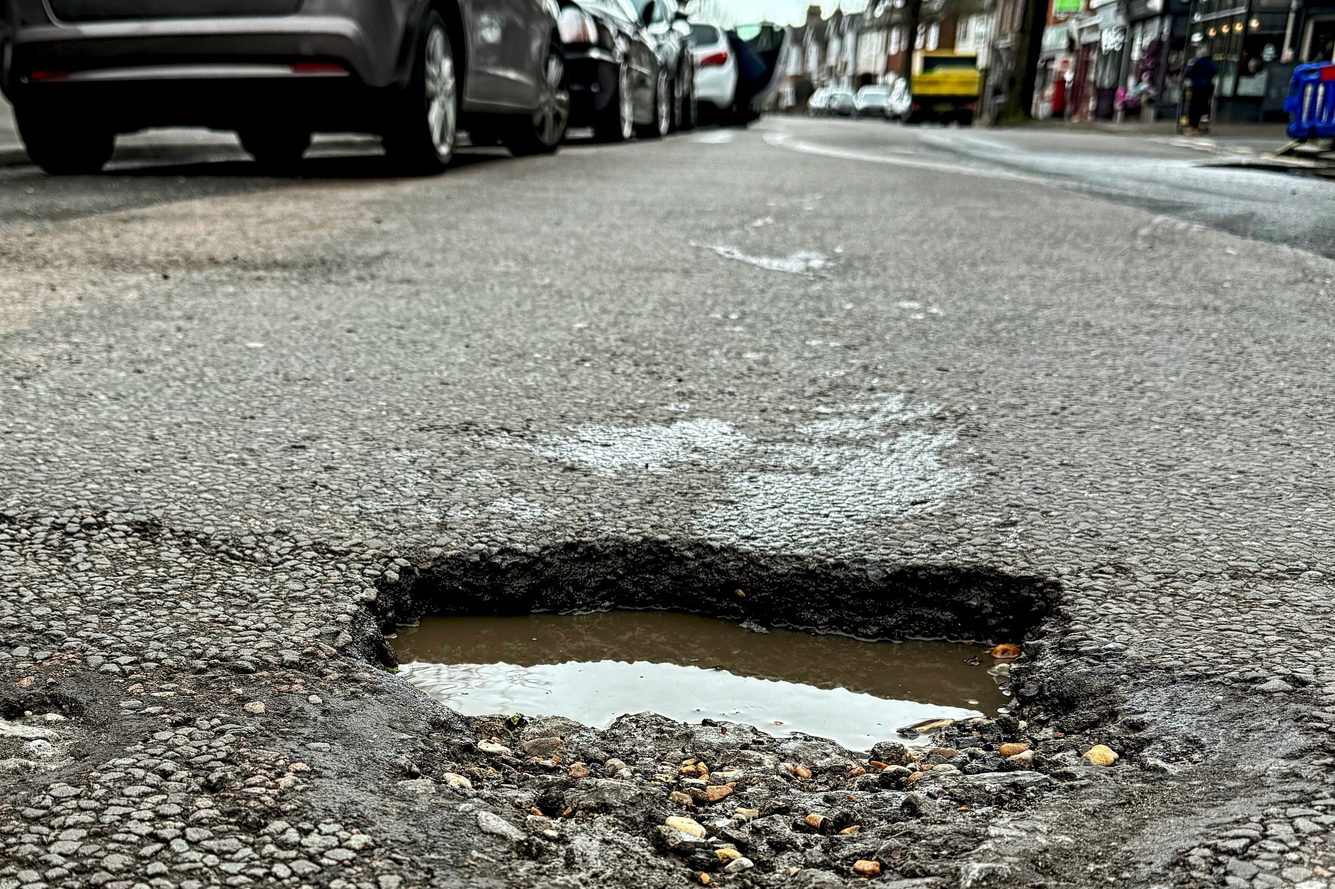Hole_in_the_road: (250, 504, 1131, 800)
